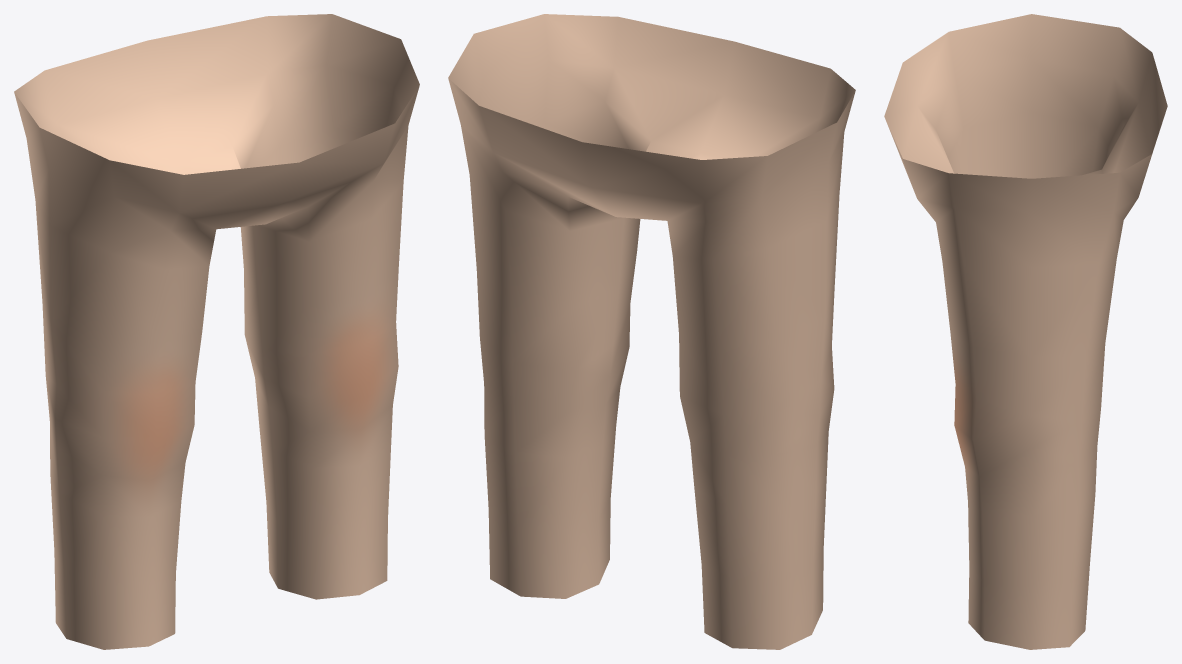
The model's file is Body_Bottom_2.fbx.
The picture shows the model from 3 angles, left to right: view 1: azimuth 30°, elevation 25°; view 2: azimuth 150°, elevation 25°; view 3: azimuth 270°, elevation 25°; orthographic projection. The views are drawn at different scales.
Parts seen in each view (by area): view 1: Body_Bottom_2; view 2: Body_Bottom_2; view 3: Body_Bottom_2.
Part boxes in pixels (x1,y1,x2,y2): Body_Bottom_2: (14, 14, 419, 649); Body_Bottom_2: (448, 14, 855, 649); Body_Bottom_2: (884, 14, 1167, 649).
Size of the model in its own units: 34.87 by 48 by 25.35.
